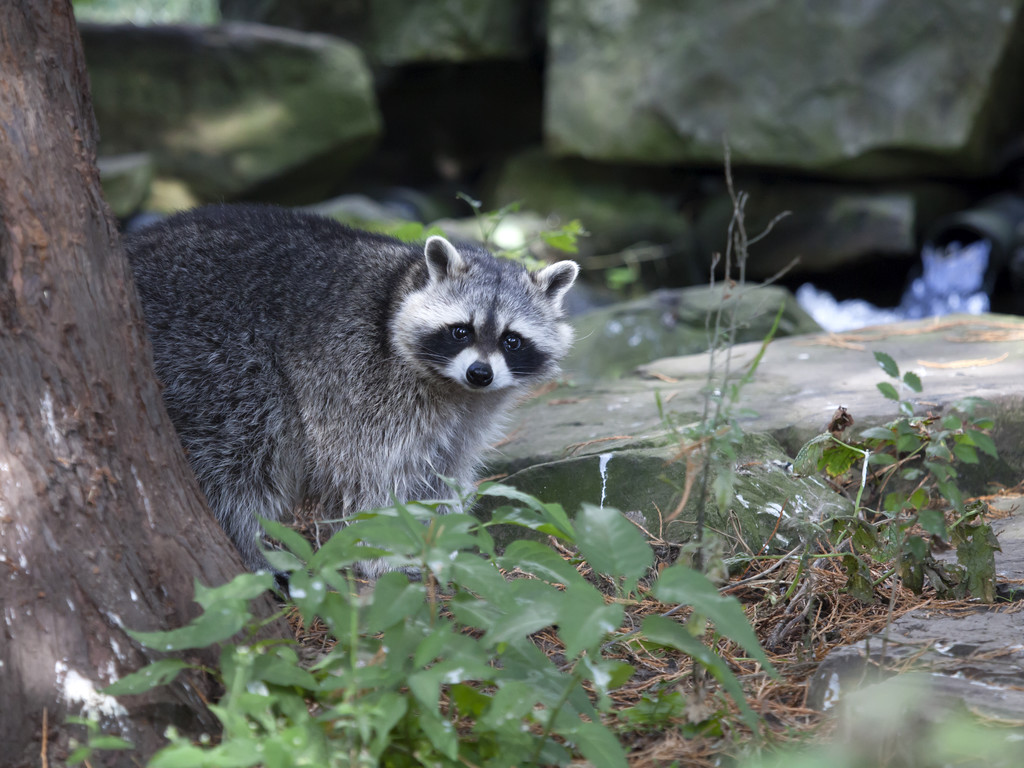raccoon: (104, 194, 596, 640)
